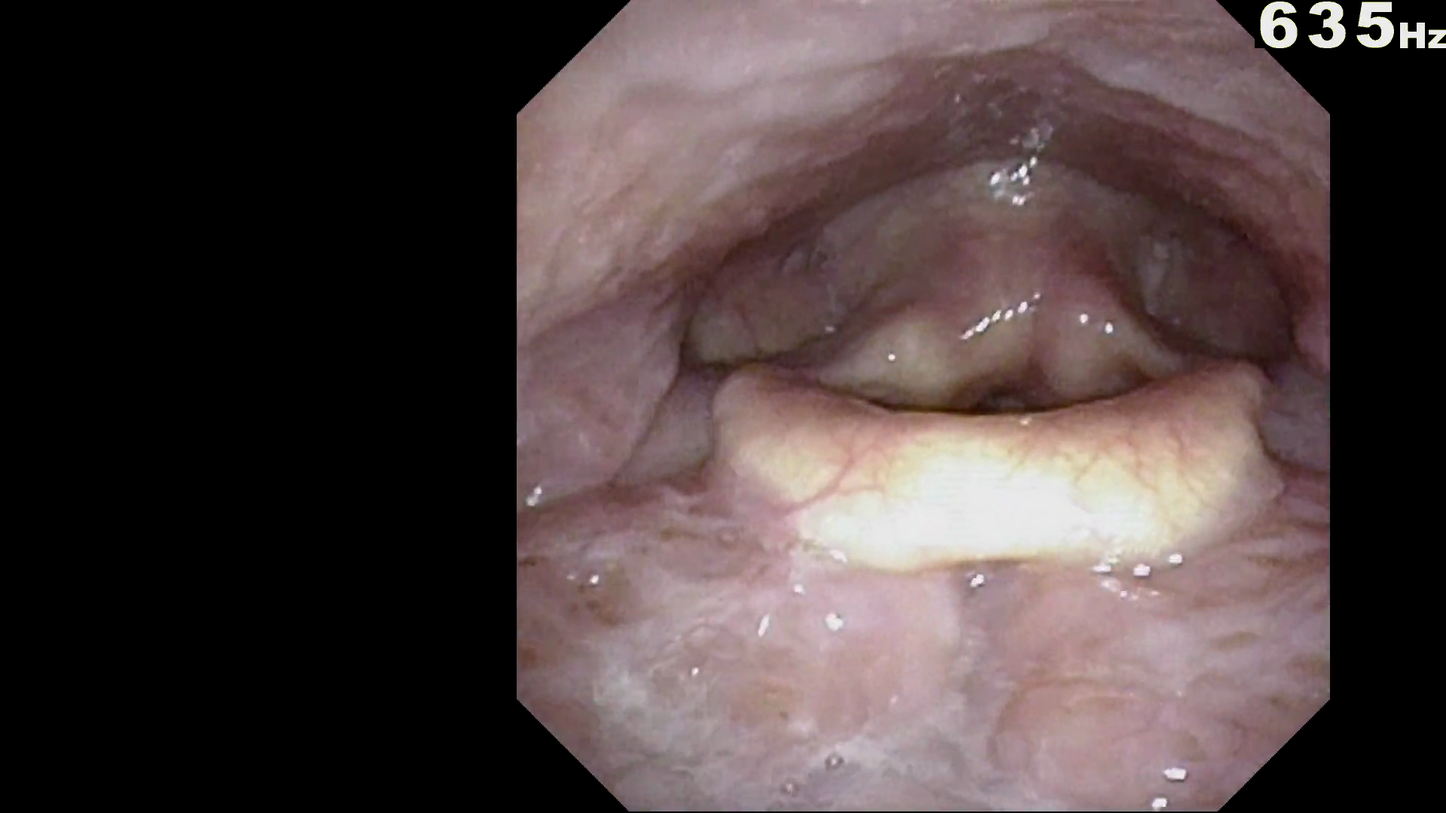epiglottis: (713, 358, 1280, 570)
trachea: (937, 311, 1080, 461)
